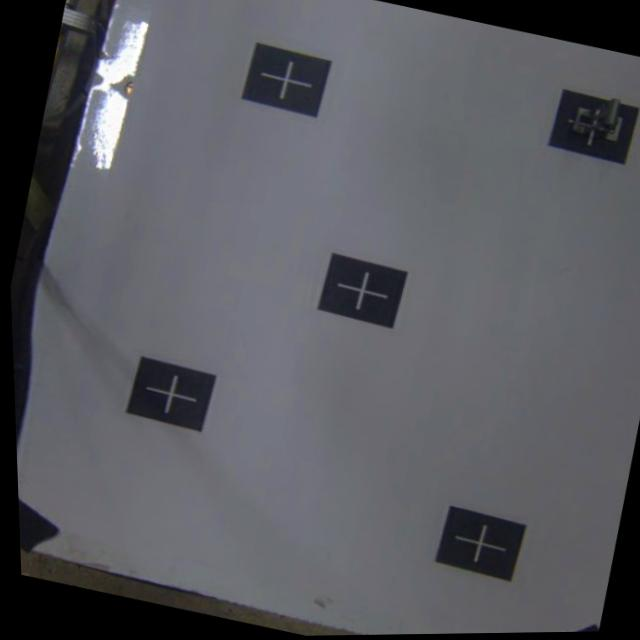pick4: (545, 86, 640, 165)
